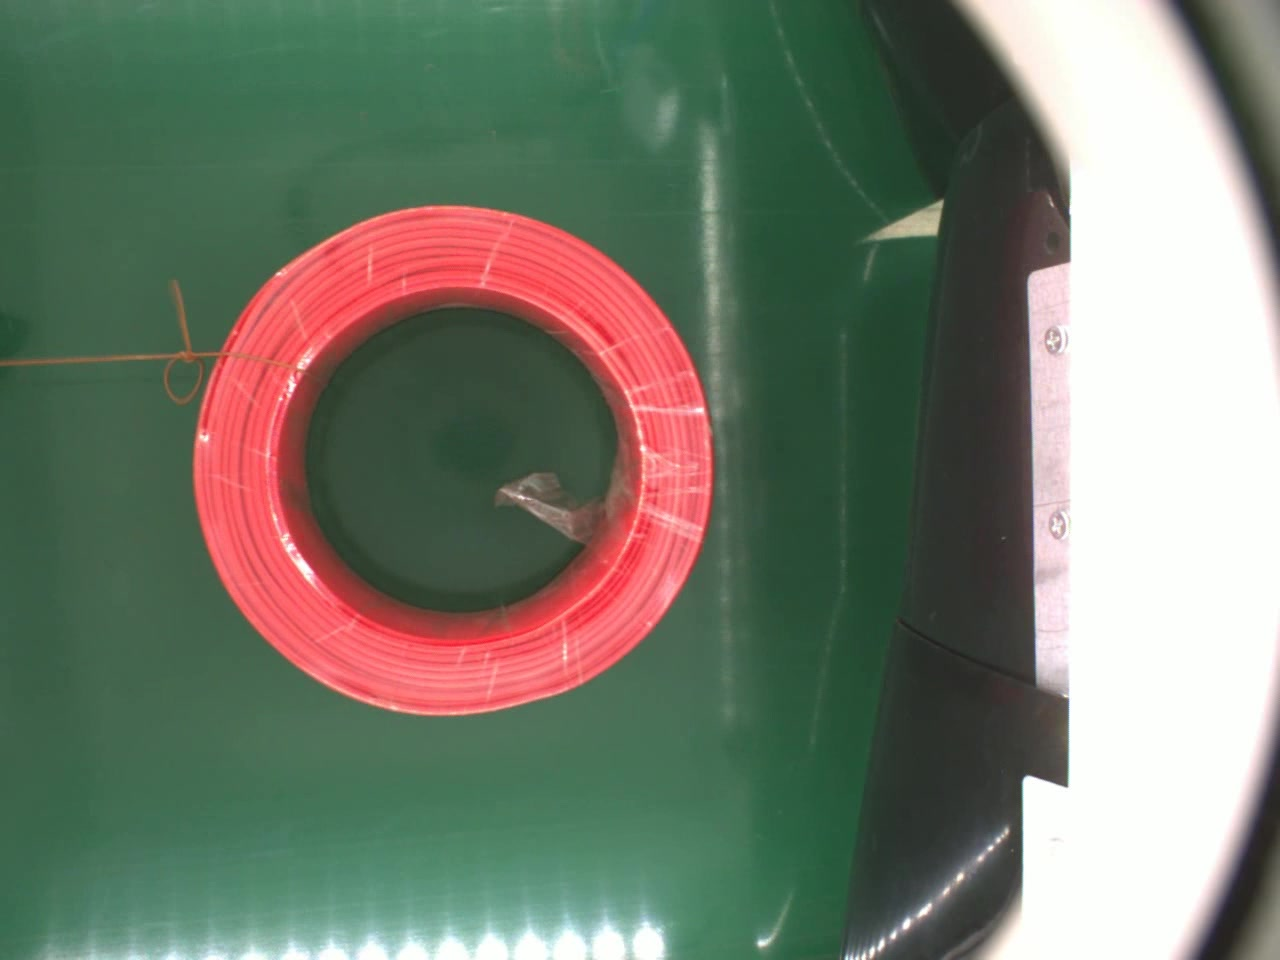red: (183, 201, 717, 719)
